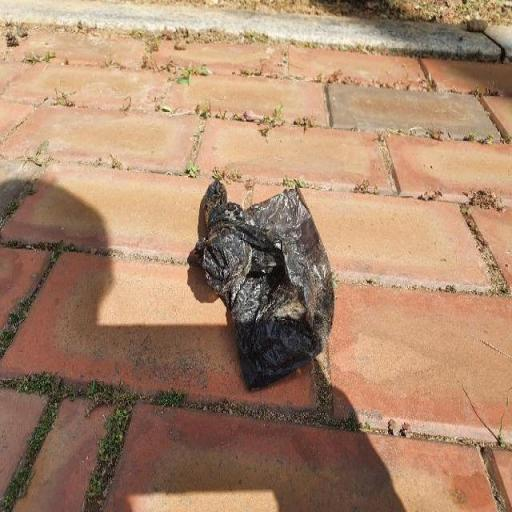plastic-bag: (190, 172, 336, 397)
